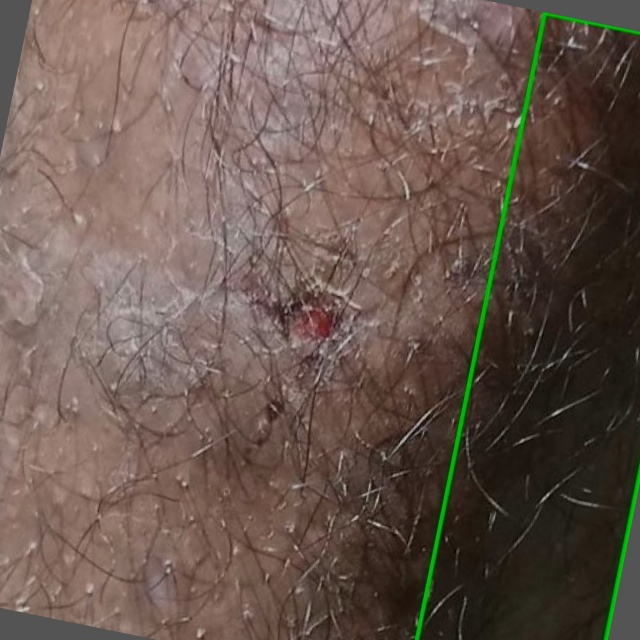Eczema: (418, 13, 639, 639)
